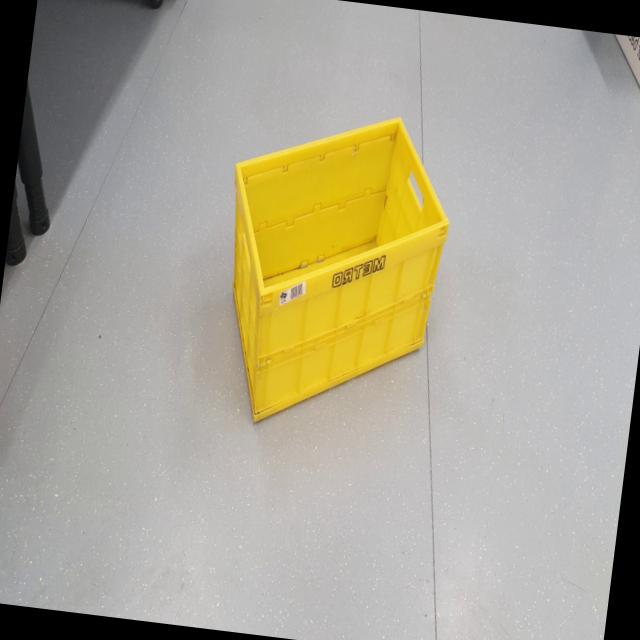box: (200, 68, 486, 478)
